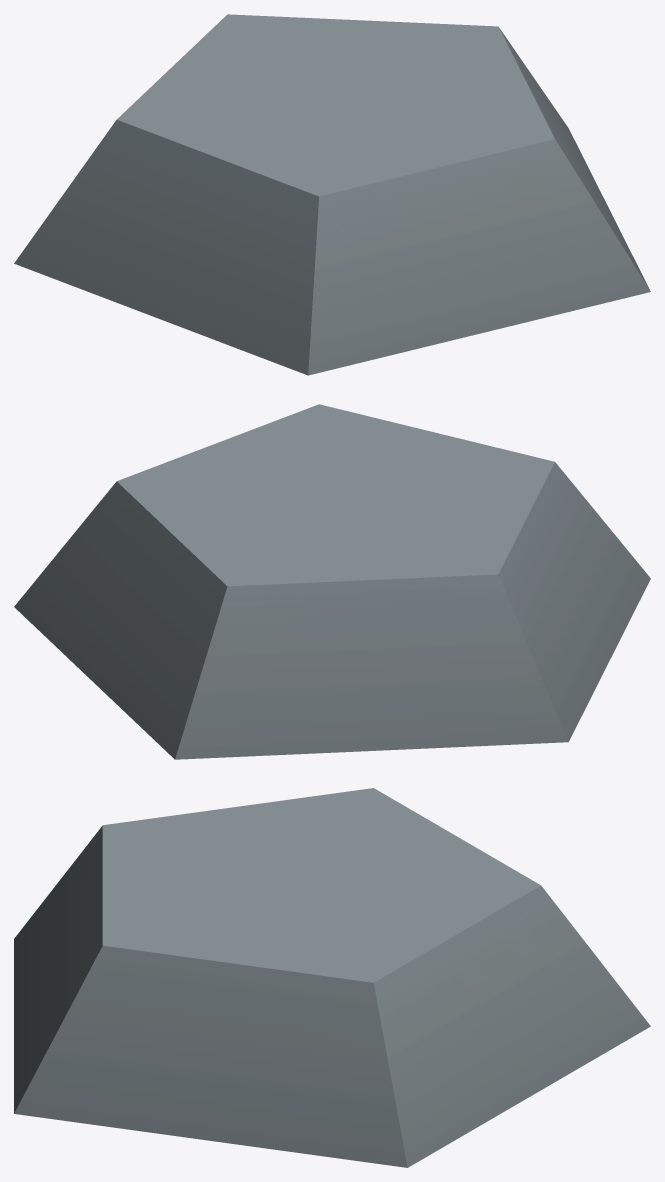
The model's file is kaykit-medieval-hexagon-pack-rock-single-a.glb.
3 views of the same model, one above another, from view 1: azimuth 30°, elevation 25°; view 2: azimuth 150°, elevation 25°; view 3: azimuth 270°, elevation 25° (orthographic). The views are drawn at different scales.
Parts seen in each view (by area): view 1: rock_single_A; view 2: rock_single_A; view 3: rock_single_A.
Boxes of the visible parts, box(x1,y1,x2,y2) form: rock_single_A: box(14, 14, 650, 375); rock_single_A: box(14, 404, 650, 759); rock_single_A: box(14, 788, 650, 1167).
Size of the model in its own units: 0.2982 by 0.0693 by 0.2836.
Materials: 1 (1 with a texture image).
